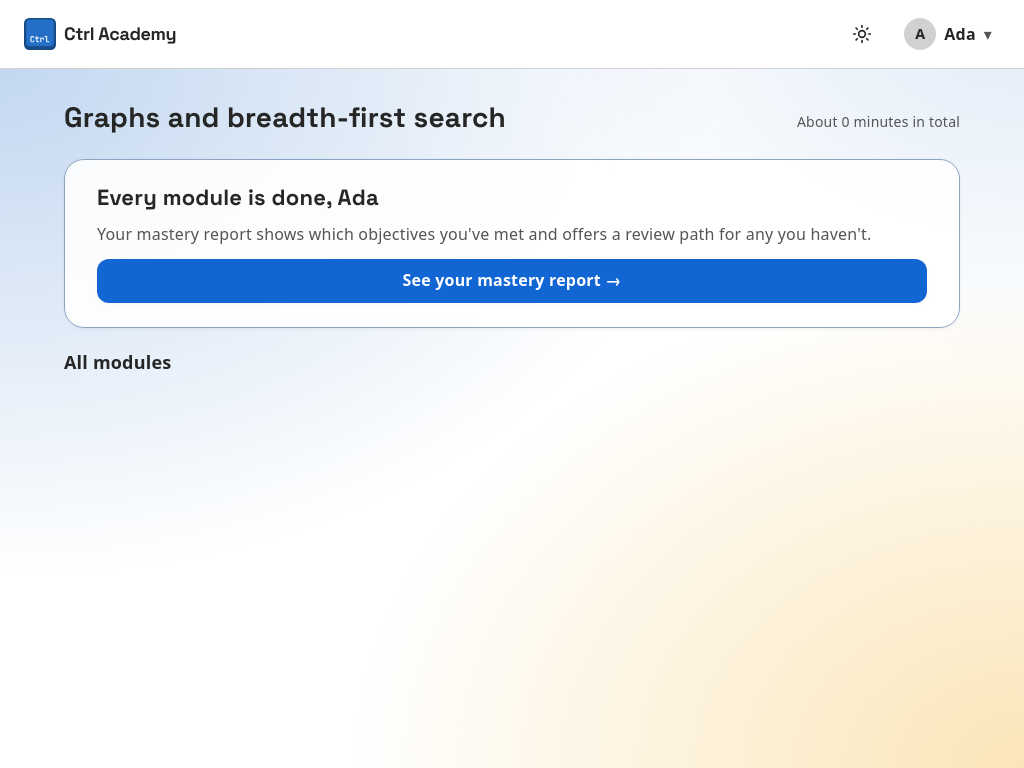
Test: account menu › opens to the profile, badges and log out, and closes with Escape
Click the button named "Ada: your account" at point(948, 34), box [896,12,1000,56]
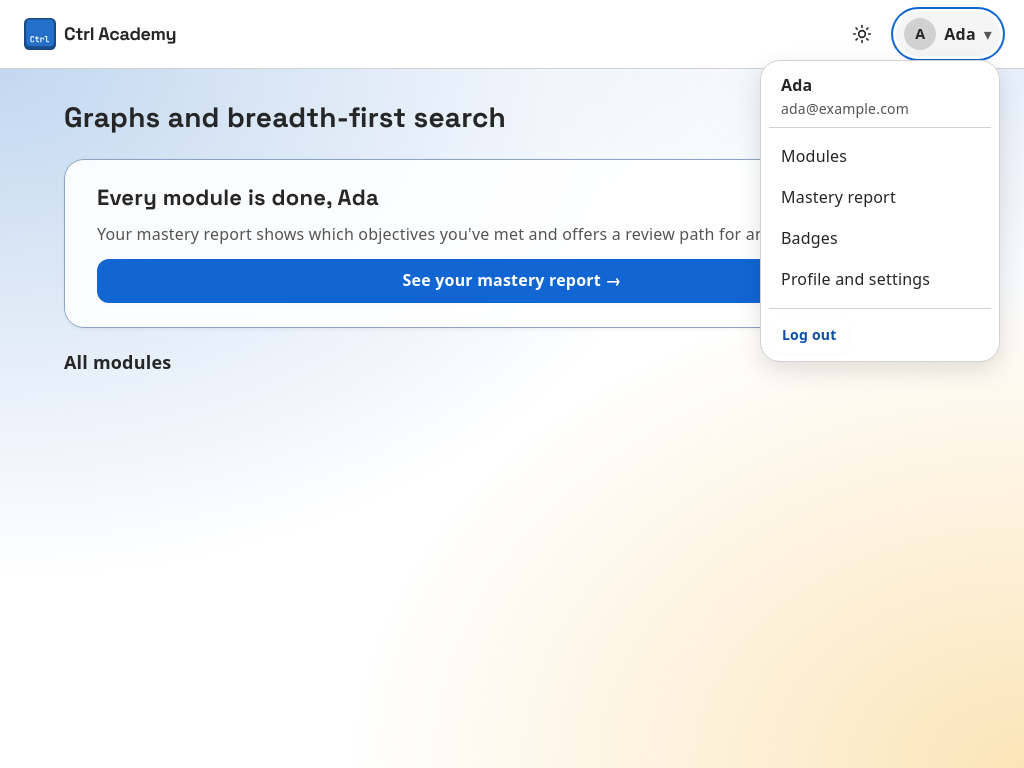
Expected: the button named "Ada: your account" is expanded, [896,12,1000,56]
Expected: the button "Log out" is shown, [769,317,849,353]
Press Escape
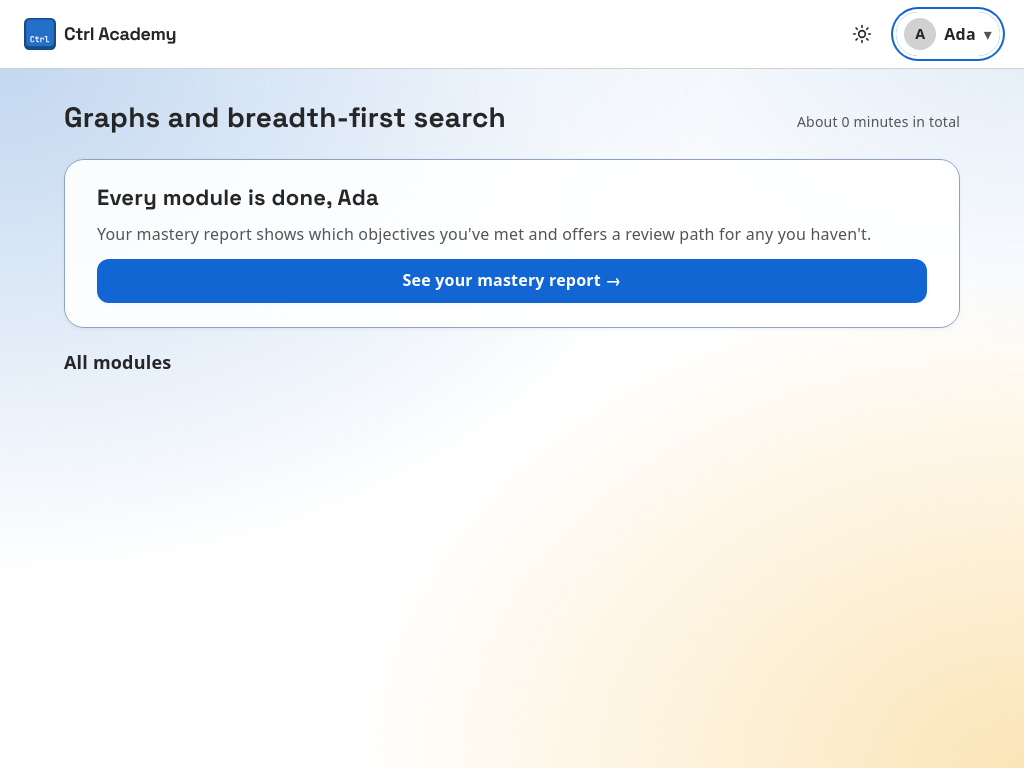
Expected: the button named "Ada: your account" is collapsed, [896,12,1000,56]
Expected: the link "Profile and settings" is gone
